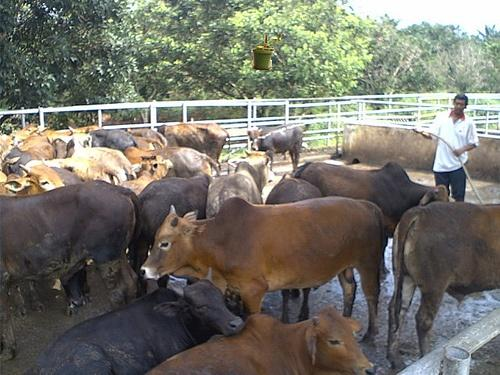tampered: (252, 34, 281, 70)
